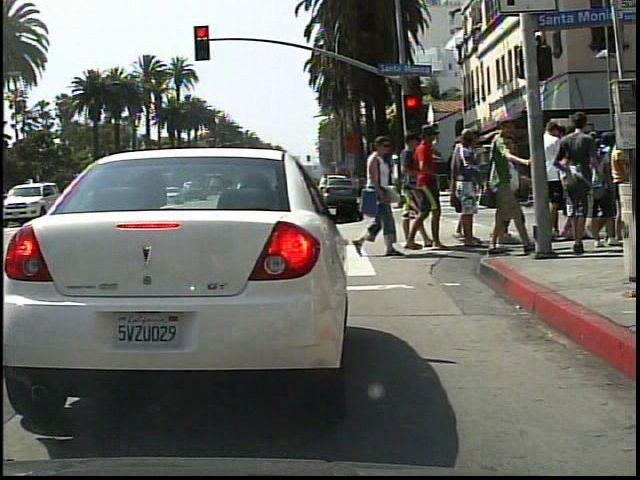person: (351, 129, 402, 263)
